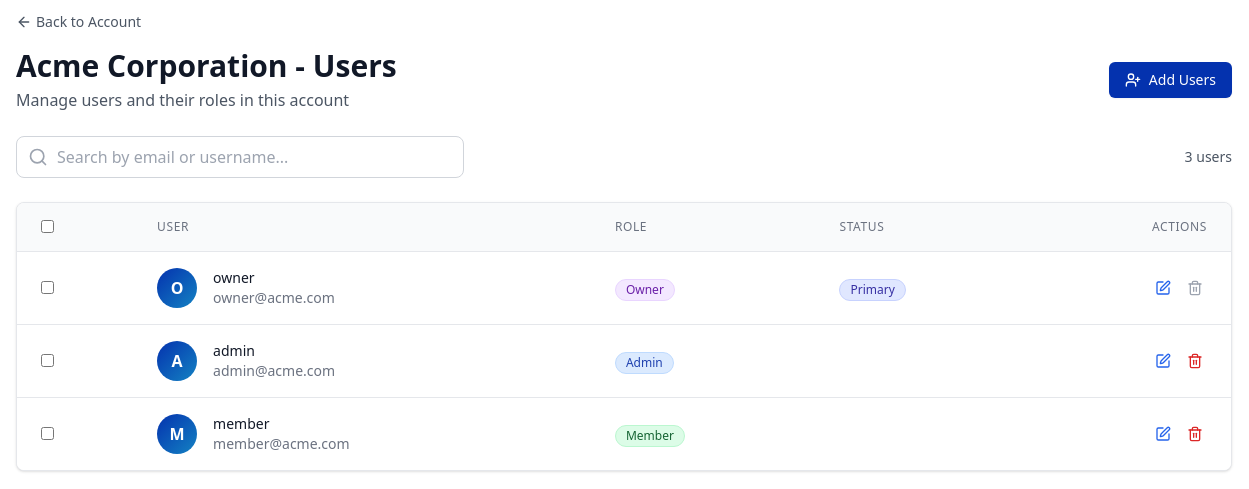
Scenario: AccountUserManager › should select all users when select all clicked
This screenshot has width=1249, height=489.
Expected: the text "owner@acme.com" is shown, x1=213 y1=288 x2=335 y2=308
Click the checkbox in the row of "Status".
click(48, 226)  # box x1=41 y1=220 x2=54 y2=233
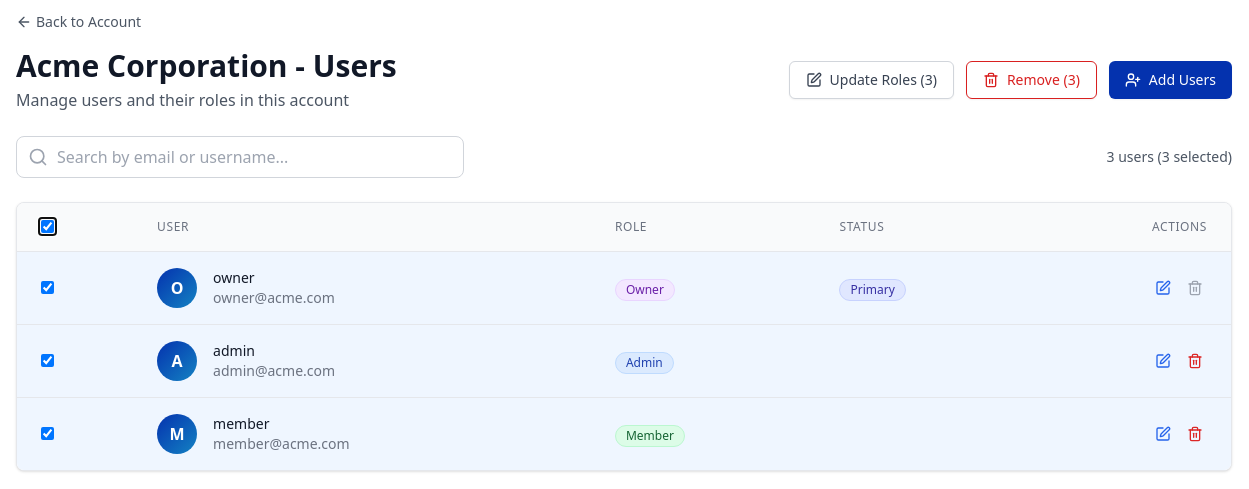
Now the text "3 users (3 selected)" is shown, box x1=1106 y1=147 x2=1232 y2=167
